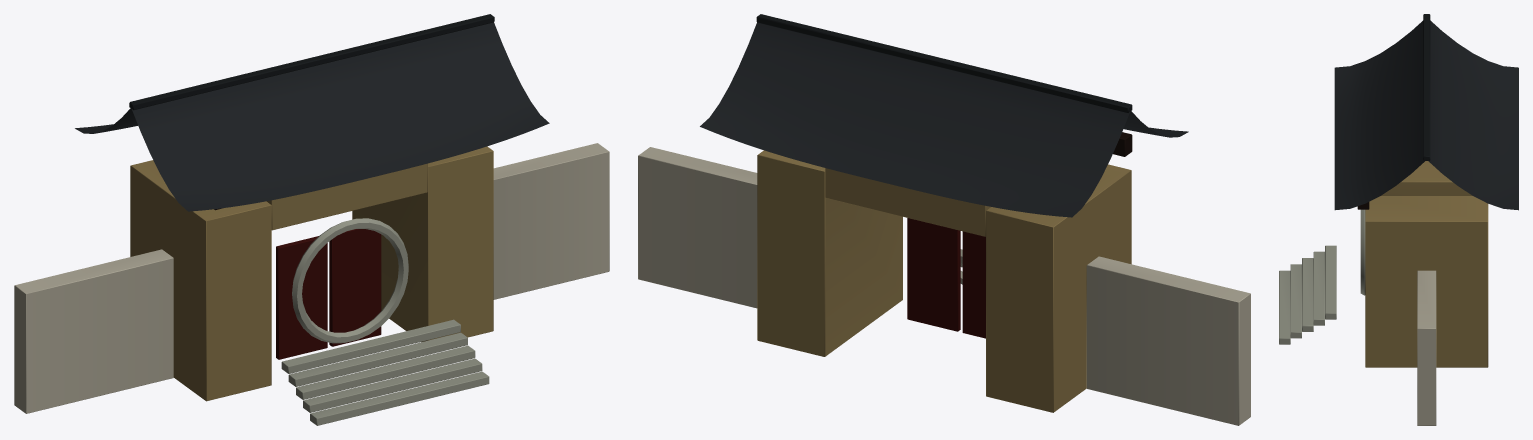
Rendered from hz-mountain-gate.glb.
3 renders of one model, left to right at view 1: azimuth 30°, elevation 25°; view 2: azimuth 150°, elevation 25°; view 3: azimuth 270°, elevation 25°, orthographic. The views are drawn at different scales.
Parts seen in each view (by area): view 1: walls__plaster, roof__tile, steps__stone, door__wood, arch__stone; view 2: walls__plaster, roof__tile, door__wood; view 3: roof__tile, walls__plaster, steps__stone, arch__stone.
Part boxes in pixels (x1,y1,x2,y2): walls__plaster: [14, 143, 609, 413]; roof__tile: [75, 14, 549, 211]; steps__stone: [281, 319, 489, 425]; door__wood: [276, 229, 381, 359]; arch__stone: [292, 218, 408, 343]; walls__plaster: [638, 147, 1250, 425]; roof__tile: [700, 14, 1188, 217]; door__wood: [907, 218, 985, 338]; roof__tile: [1334, 14, 1518, 210]; walls__plaster: [1365, 161, 1488, 425]; steps__stone: [1279, 245, 1336, 344]; arch__stone: [1360, 209, 1365, 295].
Size of the model in its own units: 14.2 by 6.5 by 6.25.
